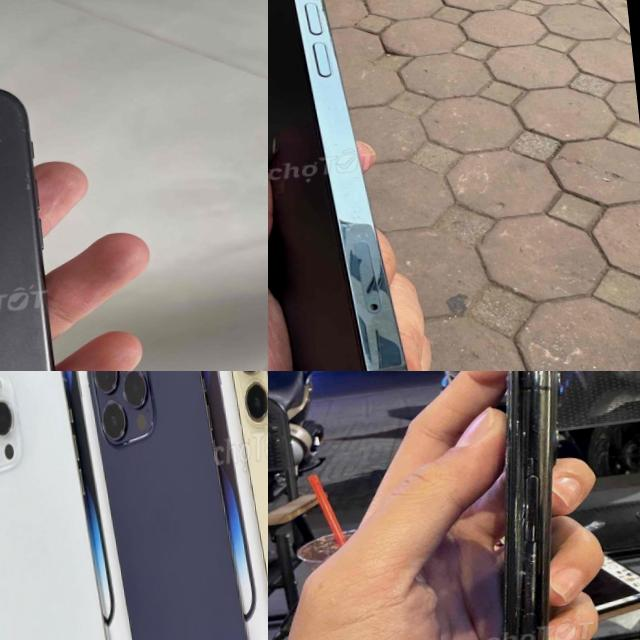scratch: (509, 512, 560, 639), (0, 78, 39, 199), (506, 383, 558, 449)
